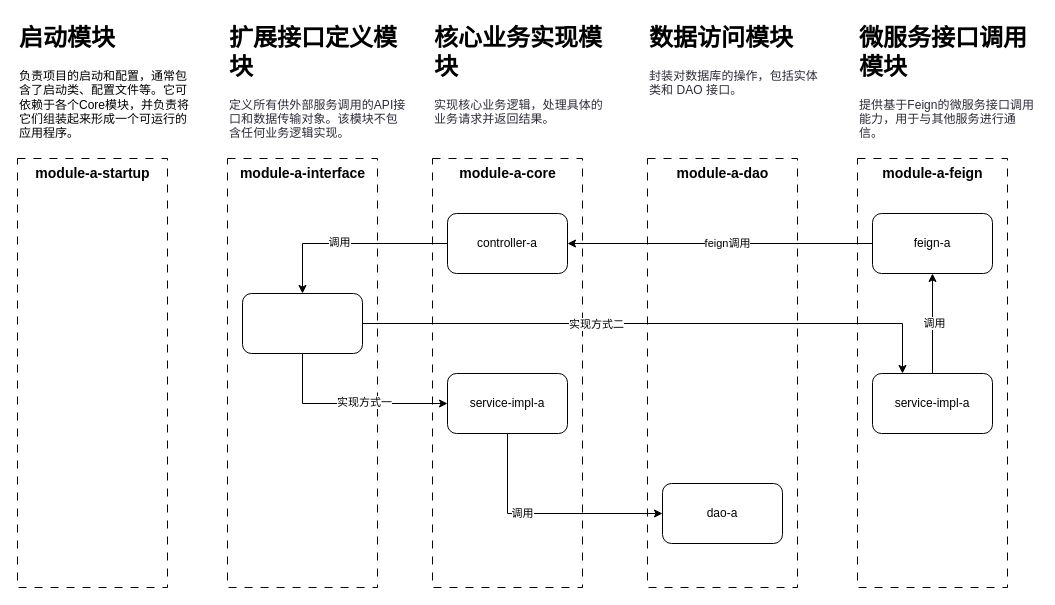
Some shapes in this 1055 by 605 pixel diagram are drawn without their labels. The shapes that lost their labels are listed below. From the top down, each one's box as (x1, y1, x2, y2) in pixels, then its label:
(242, 292, 362, 354): service- interface-a
(16, 158, 168, 588): 模块a的启动模块 无业务代码
